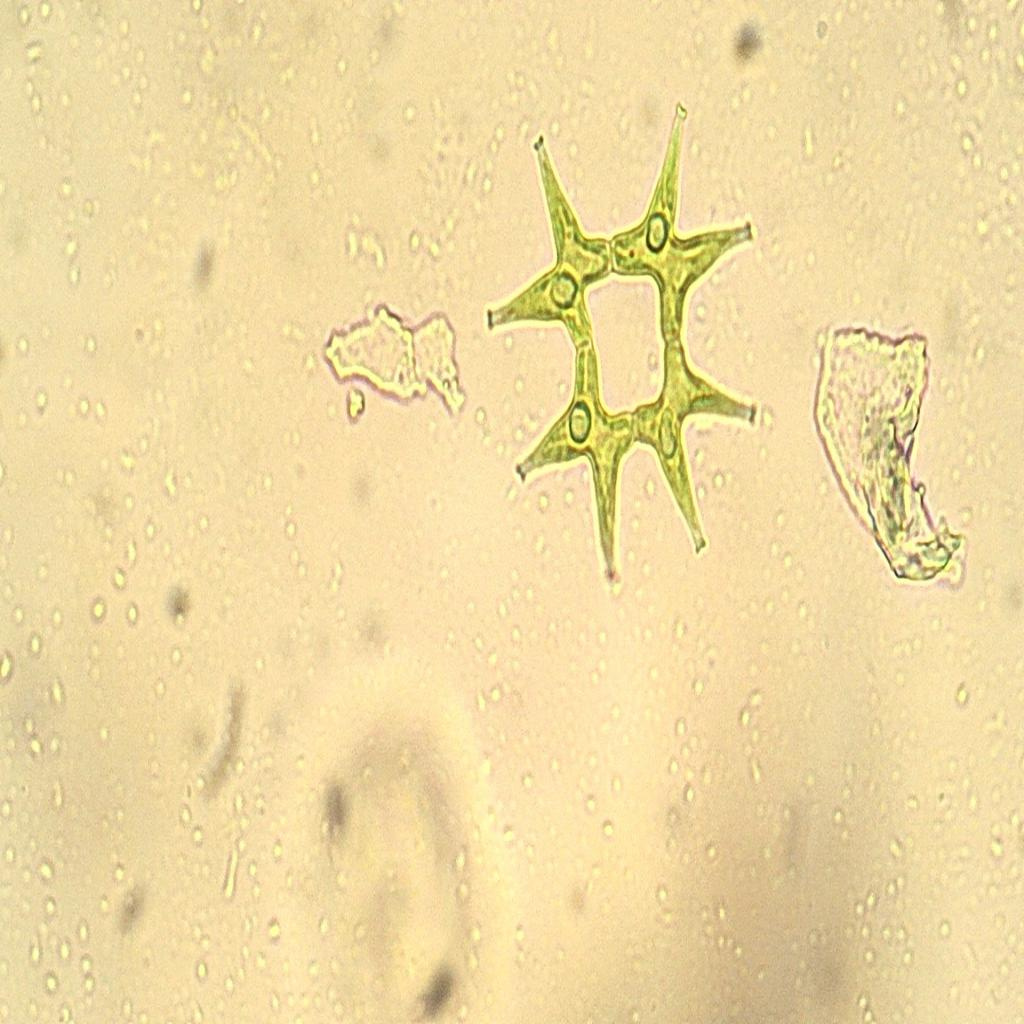Pediastrum_CO: (461, 84, 803, 600)
